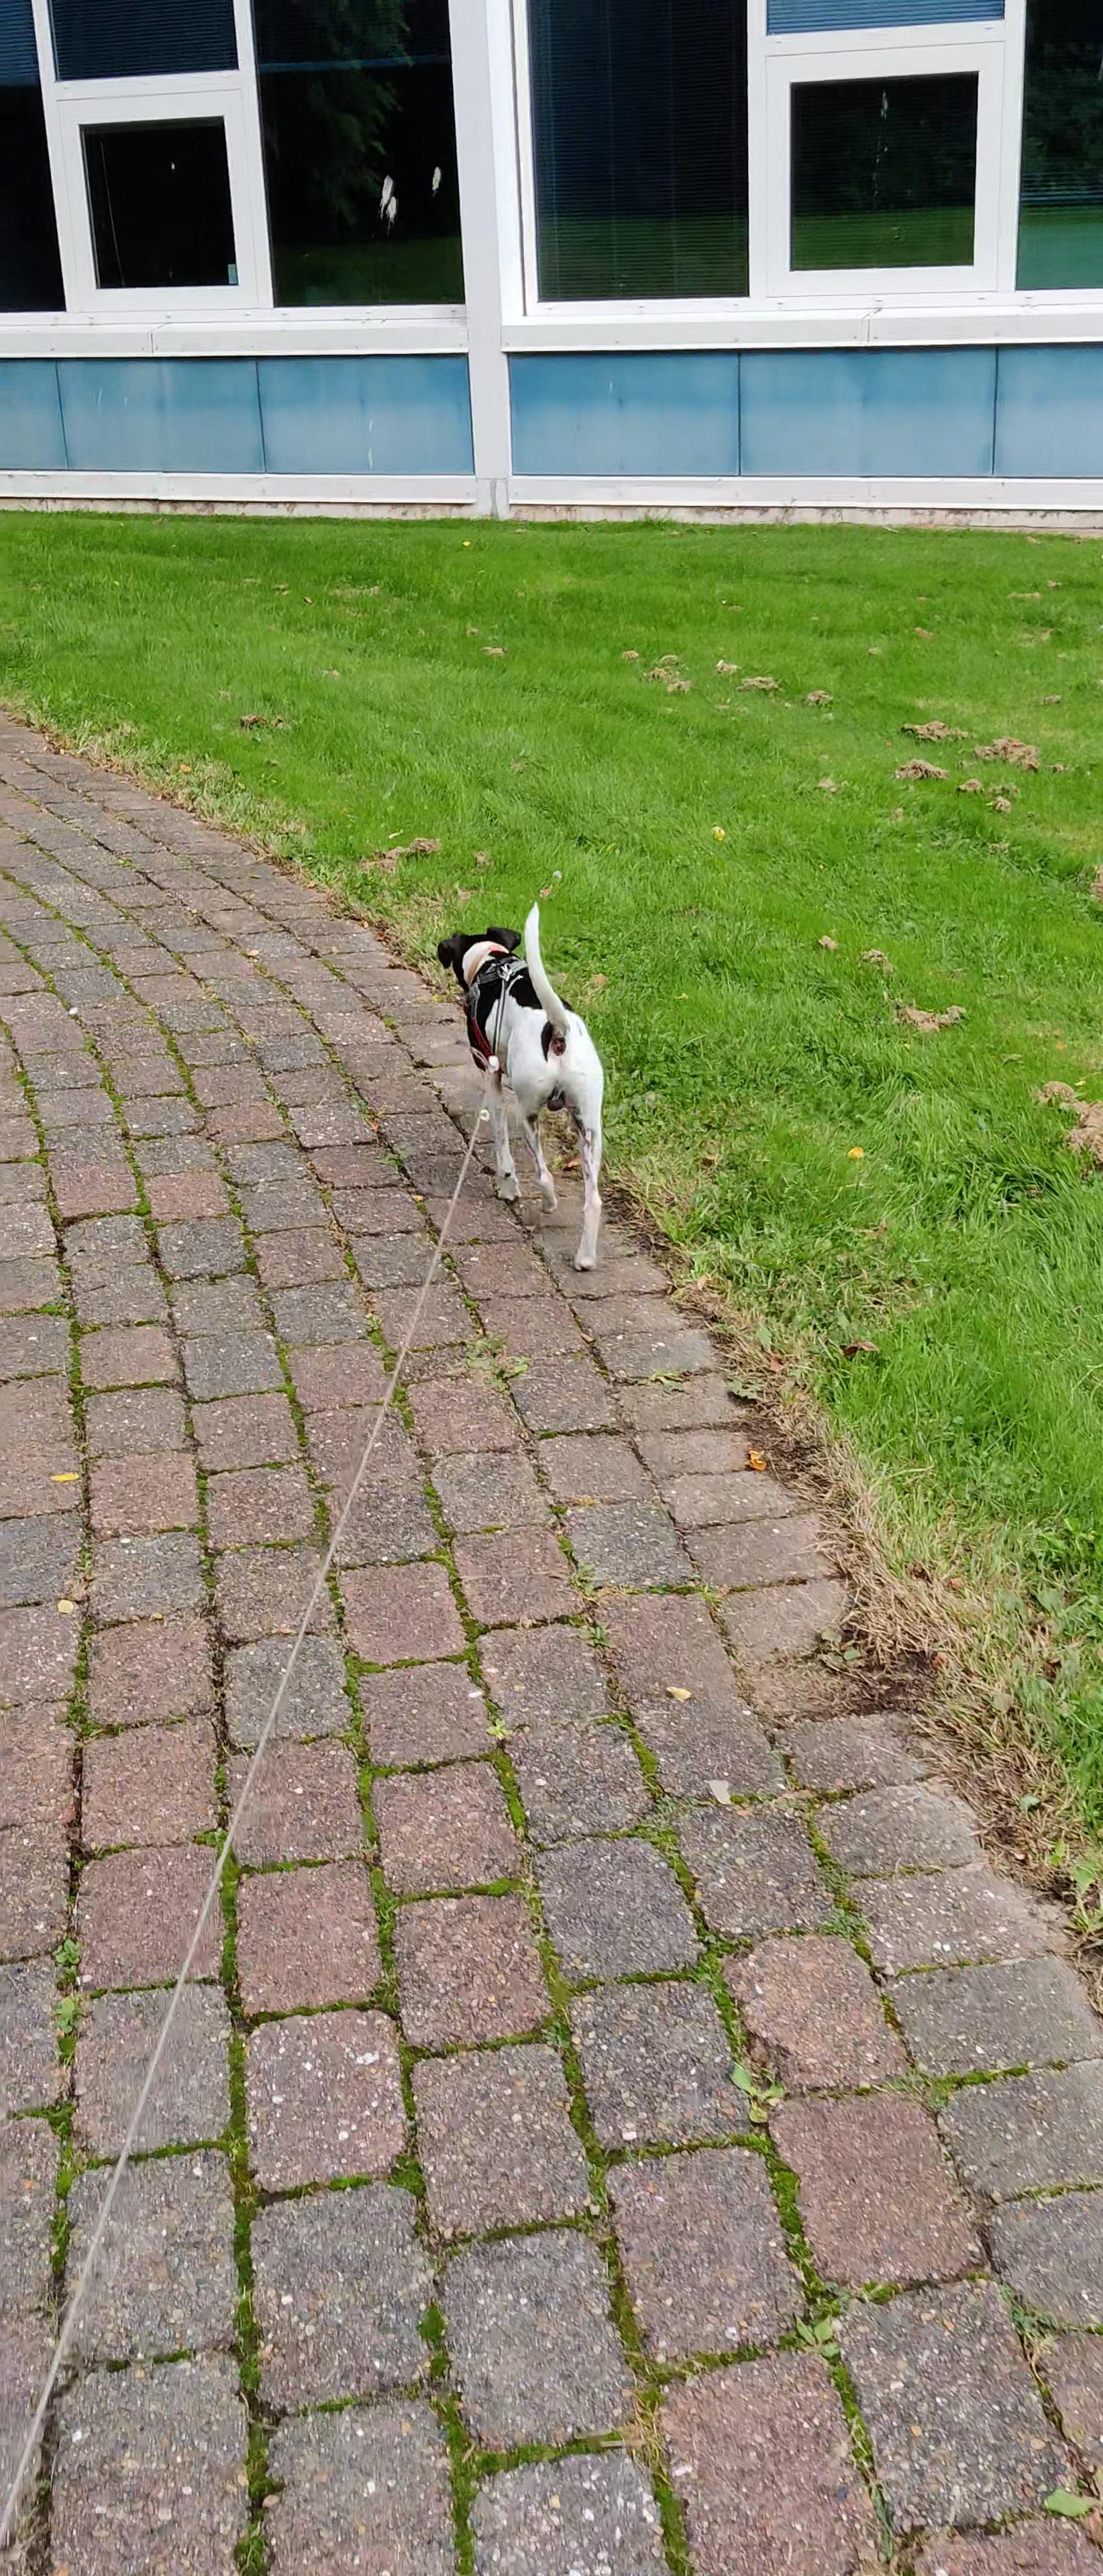Dog: (409, 879, 648, 1283)
